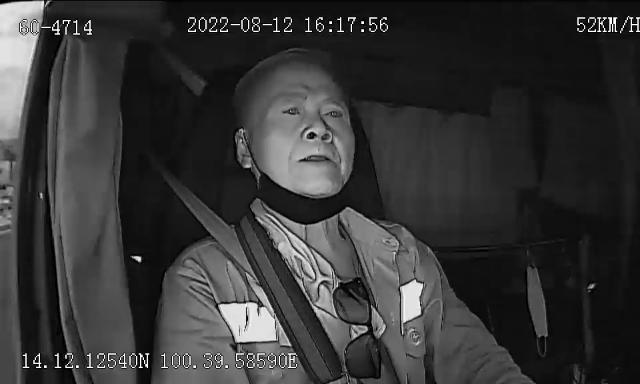SafeDriving: (276, 96, 308, 122), (318, 99, 350, 124)
Seatbelt: (160, 170, 244, 254)
